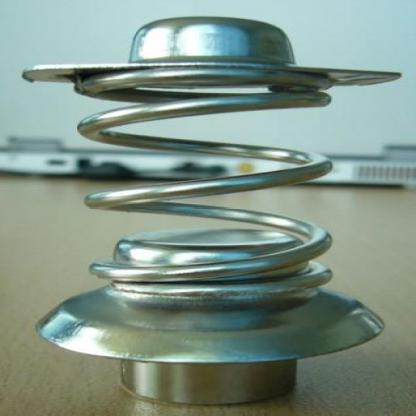FOD: (73, 69, 334, 303)
